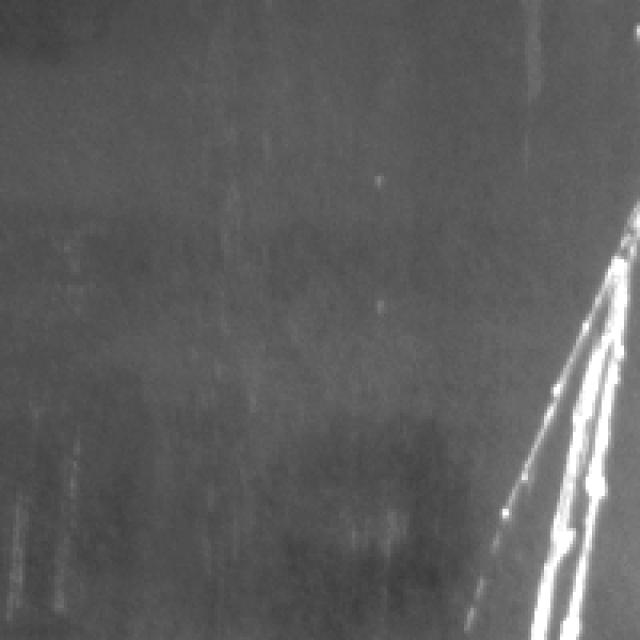scratches: (528, 278, 626, 640)
